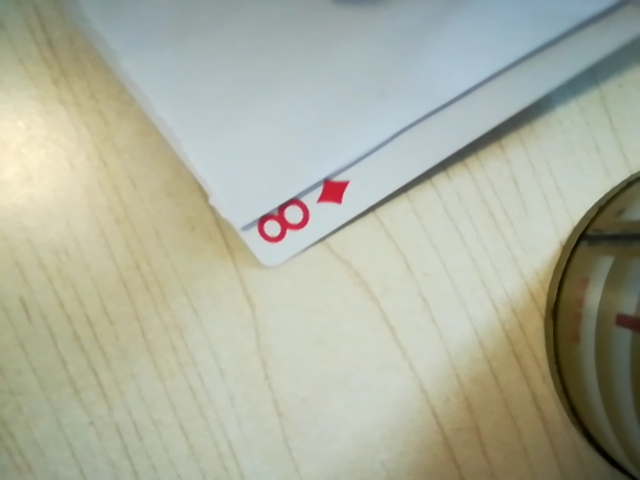fk 8: (250, 174, 353, 254)
